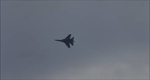maybay_muctieu: (54, 34, 76, 48)
